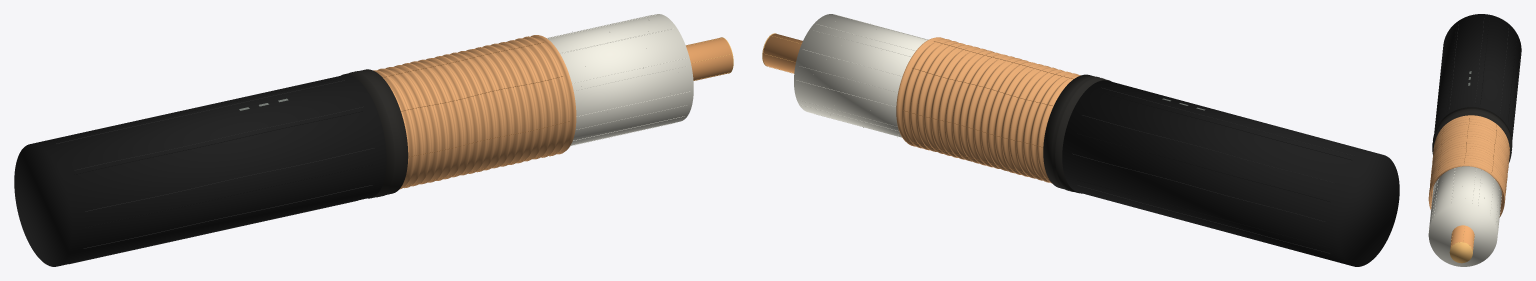
The model's file is rf-ldf1-macro.glb.
3 renders of one model, left to right at view 1: azimuth 30°, elevation 25°; view 2: azimuth 150°, elevation 25°; view 3: azimuth 270°, elevation 25°, orthographic. The views are drawn at different scales.
Parts seen in each view (by area): view 1: macro hardline jacket body, annular corrugated solid shield, macro foam dielectric exposed core, hardline jacket cut wall, polished solid center conductor, rounded jacket cut lip; view 2: macro hardline jacket body, annular corrugated solid shield, macro foam dielectric exposed core, hardline jacket cut wall, polished solid center conductor, rounded jacket cut lip; view 3: macro hardline jacket body, macro foam dielectric exposed core, annular corrugated solid shield, hardline jacket cut wall, polished solid center conductor, polished conductor cut face glow, rounded jacket cut lip, jacket axial surface line 01.
Part boxes in pixels (bbox=[...]): macro hardline jacket body: bbox=[14, 74, 386, 266]; annular corrugated solid shield: bbox=[373, 35, 576, 189]; macro foam dielectric exposed core: bbox=[547, 14, 693, 145]; hardline jacket cut wall: bbox=[341, 69, 408, 198]; polished solid center conductor: bbox=[686, 37, 732, 80]; rounded jacket cut lip: bbox=[350, 71, 398, 197]; macro hardline jacket body: bbox=[1062, 80, 1399, 266]; annular corrugated solid shield: bbox=[896, 37, 1080, 183]; macro foam dielectric exposed core: bbox=[794, 14, 927, 137]; hardline jacket cut wall: bbox=[1043, 74, 1111, 193]; polished solid center conductor: bbox=[763, 33, 802, 73]; rounded jacket cut lip: bbox=[1051, 76, 1103, 191]; macro hardline jacket body: bbox=[1434, 14, 1521, 139]; macro foam dielectric exposed core: bbox=[1428, 166, 1501, 266]; annular corrugated solid shield: bbox=[1428, 115, 1509, 217]; hardline jacket cut wall: bbox=[1432, 107, 1512, 162]; polished solid center conductor: bbox=[1450, 225, 1474, 250]; polished conductor cut face glow: bbox=[1449, 242, 1472, 263]; rounded jacket cut lip: bbox=[1432, 109, 1512, 152]; jacket axial surface line 01: bbox=[1512, 51, 1520, 136].
Bounding box in the file's own units: 11.62 × 1.92 × 2.24.
